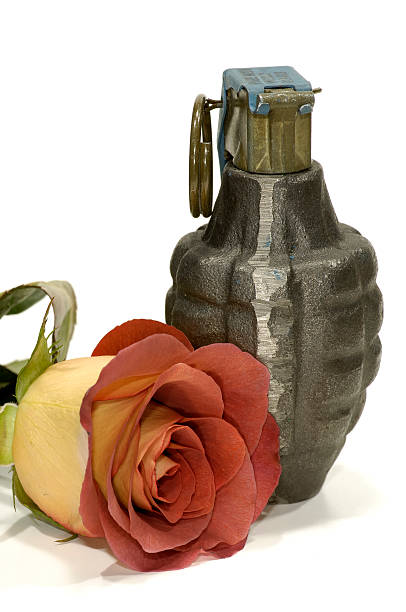e1: (166, 62, 386, 498)
